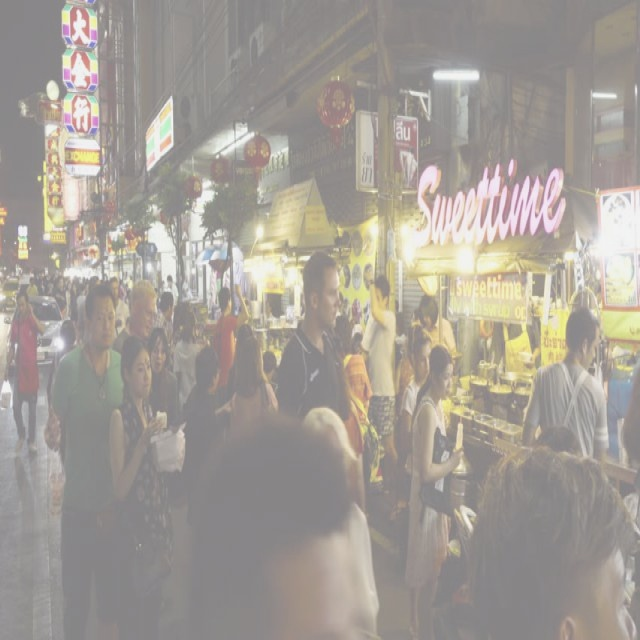pessoa: (184, 406, 639, 638), (42, 282, 133, 638), (108, 333, 186, 639), (402, 342, 465, 638), (301, 404, 380, 639), (520, 305, 610, 460), (276, 250, 352, 426), (173, 338, 224, 530), (360, 263, 400, 473), (0, 288, 46, 454), (400, 330, 433, 502), (211, 282, 250, 410), (334, 313, 374, 432), (227, 333, 279, 419), (145, 325, 181, 435), (484, 316, 542, 383), (44, 315, 76, 433), (111, 277, 159, 355), (416, 292, 458, 369), (174, 310, 202, 412), (0, 267, 96, 294), (225, 322, 254, 402), (108, 274, 132, 340), (618, 350, 639, 410), (152, 289, 175, 343), (392, 298, 422, 330), (165, 273, 179, 336), (75, 281, 87, 347), (260, 344, 278, 387), (68, 280, 80, 332), (54, 276, 68, 315), (150, 286, 160, 338), (64, 278, 74, 326), (602, 359, 612, 402), (236, 298, 256, 318), (26, 276, 40, 300), (181, 272, 193, 299), (88, 274, 101, 292), (336, 288, 344, 315), (124, 281, 132, 307), (118, 278, 126, 302), (266, 298, 275, 318), (300, 292, 306, 320), (158, 278, 167, 294)
